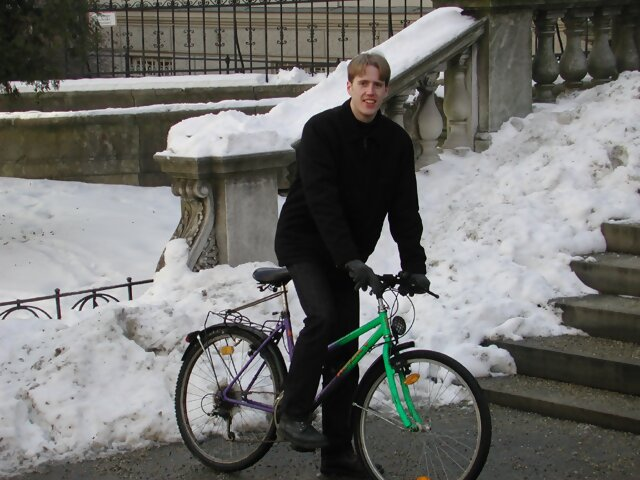person: (273, 46, 435, 477)
